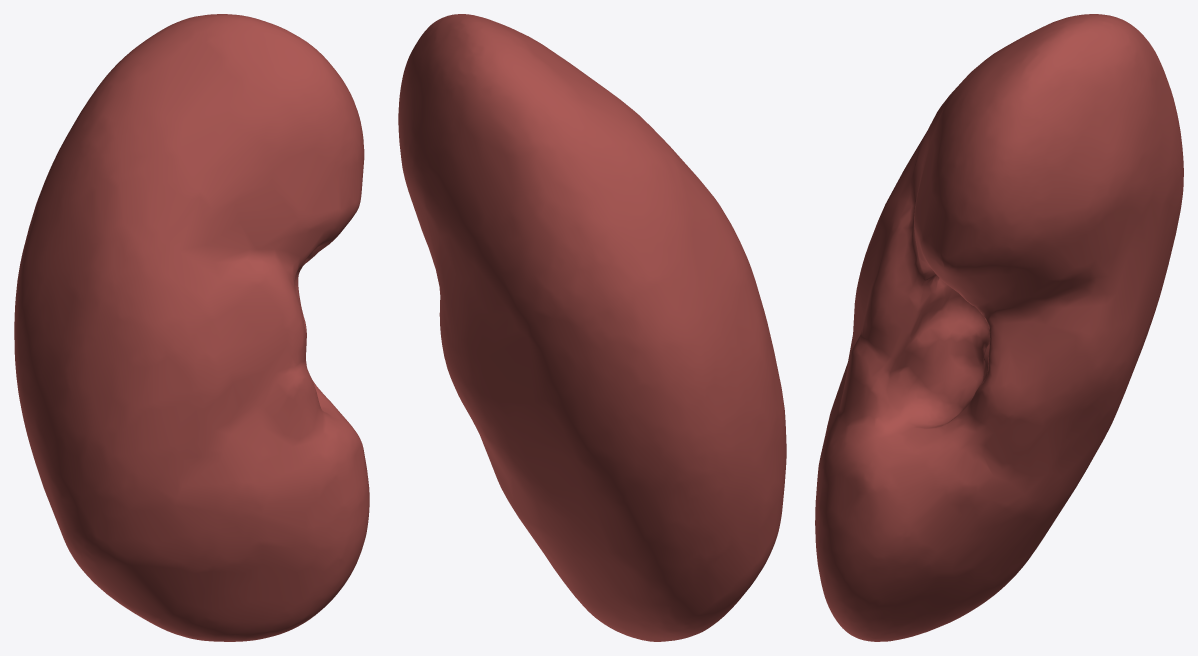
File: FMA7204.glb
The picture shows the model from 3 angles, left to right: view 1: azimuth 30°, elevation 25°; view 2: azimuth 150°, elevation 25°; view 3: azimuth 270°, elevation 25°; orthographic projection. The views are drawn at different scales.
Parts seen in each view (by area): view 1: FMA7204; view 2: FMA7204; view 3: FMA7204.
Boxes of the visible parts, <box> form: FMA7204: <box>14,14,369,641</box>; FMA7204: <box>398,14,786,641</box>; FMA7204: <box>815,14,1183,641</box>.
Bounding box in the file's own units: 0.0601 × 0.1022 × 0.0531.
